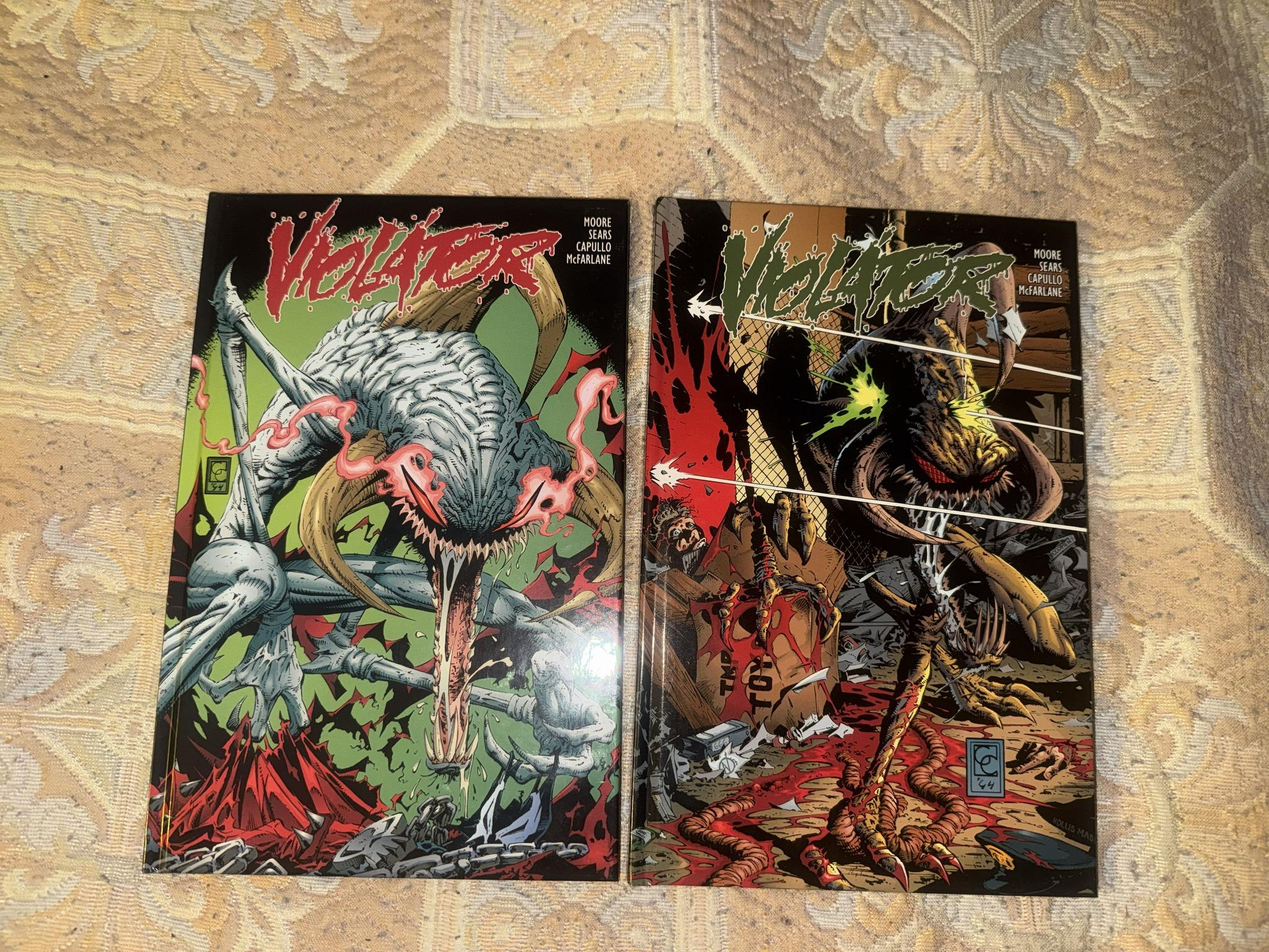comic: (630, 199, 1117, 897), (145, 192, 629, 879)
